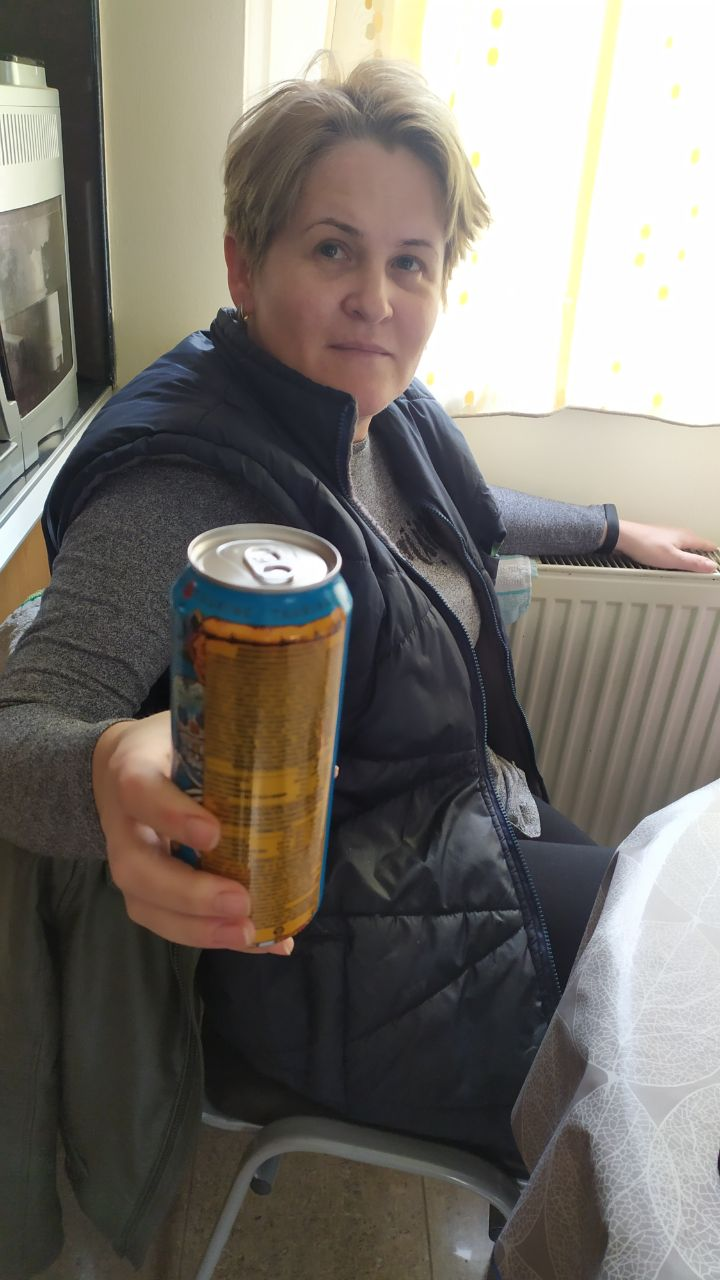Can: (169, 521, 359, 929)
